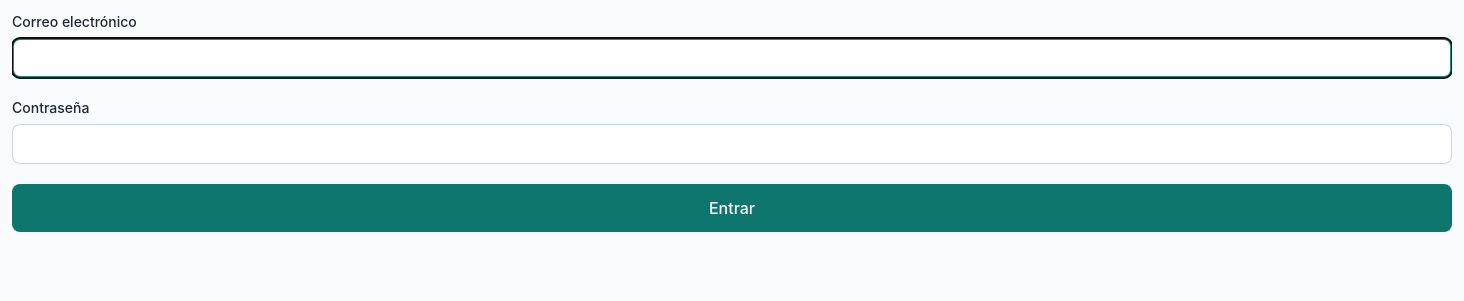
Test case: LoginForm › valida los campos con mensajes en español antes de llamar al API
Type "no-es-correo" into the field labelled "Correo electrónico" at (732,58), box [12,38,1452,78]
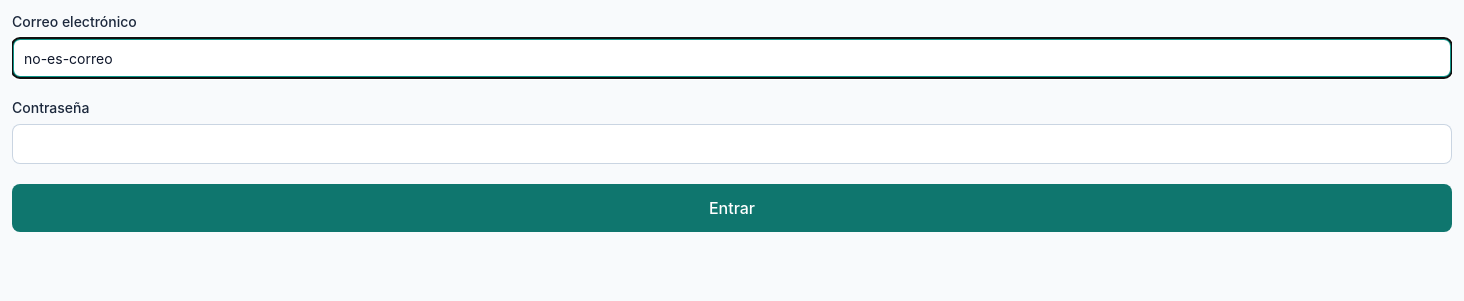
Click the button "Entrar" at (732,208), box [12,184,1452,232]
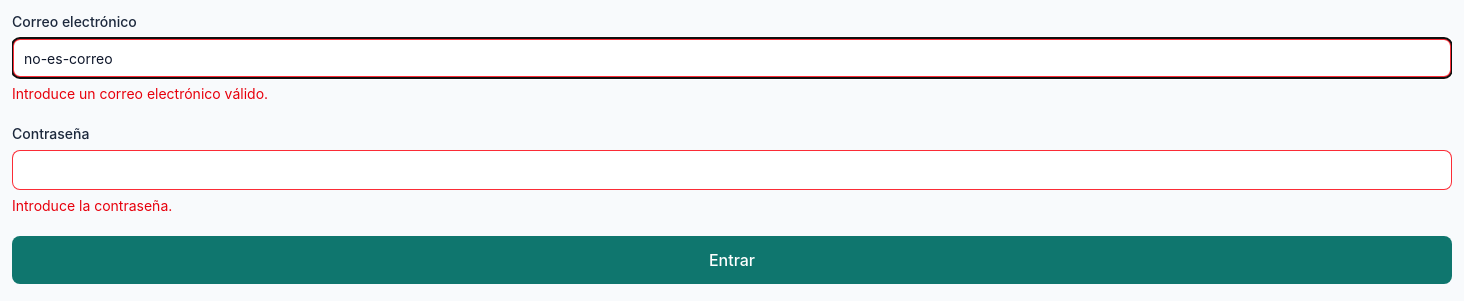
Check: the text "Introduce un correo electrónico válido." is shown, box [12,85,268,102]
Check: the text "Introduce la contraseña." is shown, box [12,197,172,214]
